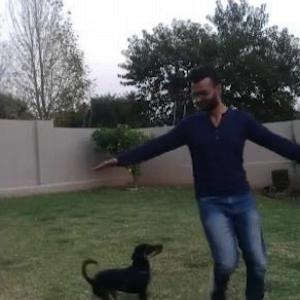land: (111, 76, 299, 294)
